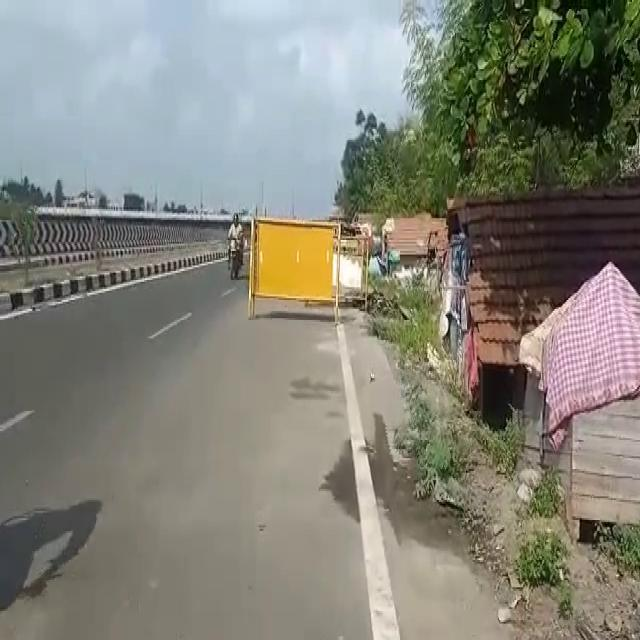fallen_object: (237, 193, 361, 348)
